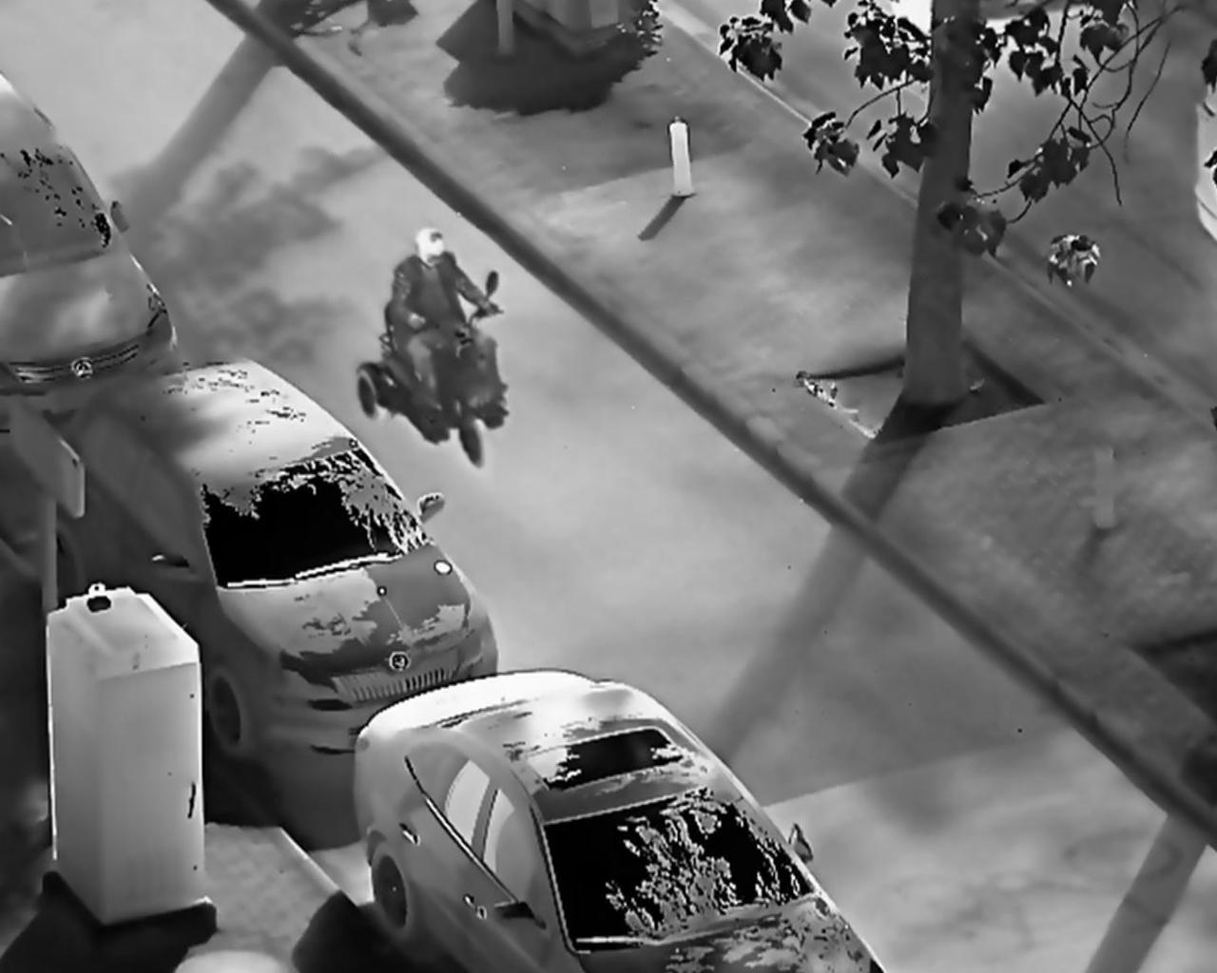person: (384, 223, 503, 447)
